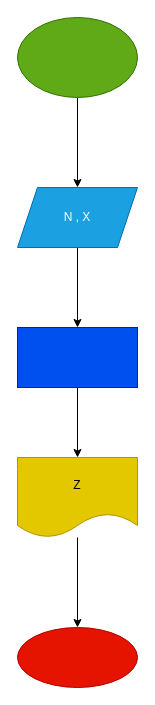
This 155x705 diagram has some shape labels left out. The centre of each missing label's shape, as x and y in pixels:
INICIO: (x=77, y=57)
Z = X , 1/N: (x=77, y=357)
